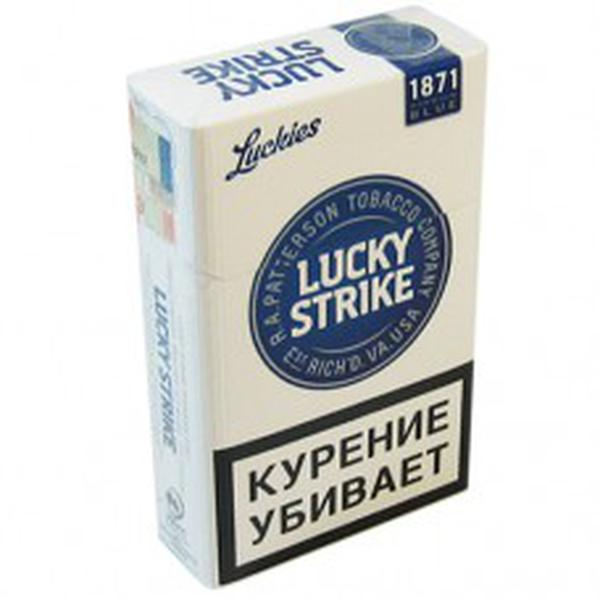lucky_strike_blue: (202, 66, 473, 492)
